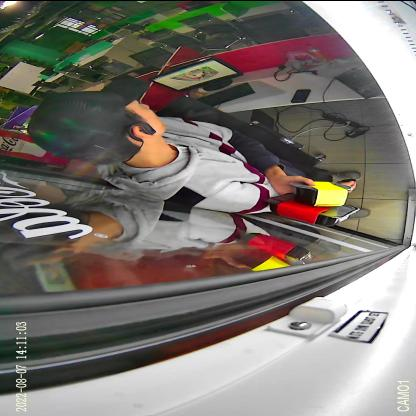red: (268, 193, 360, 224)
yellow: (288, 180, 352, 205)
